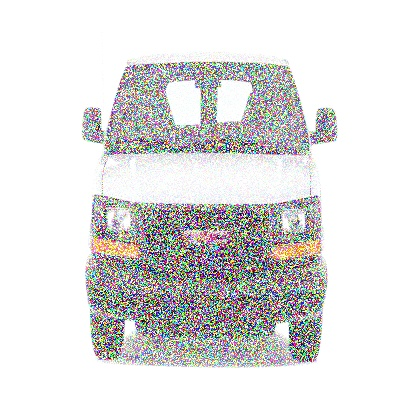Vehicle: (82, 58, 337, 368)
